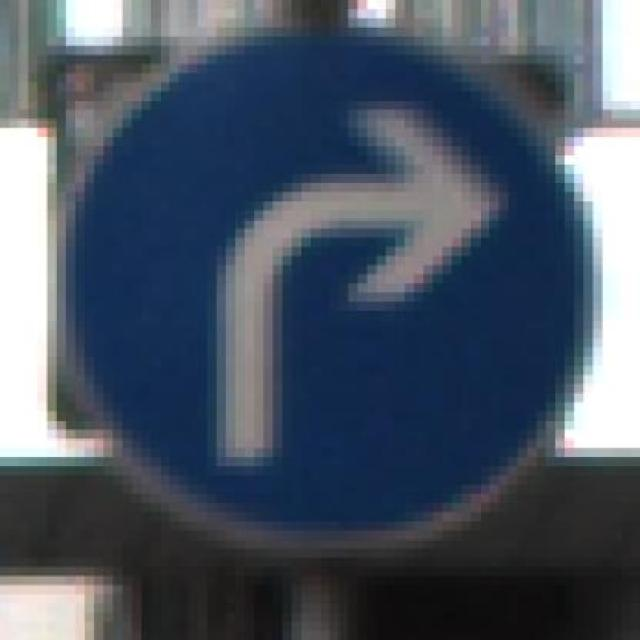Turn right ahead: (47, 8, 611, 567)
